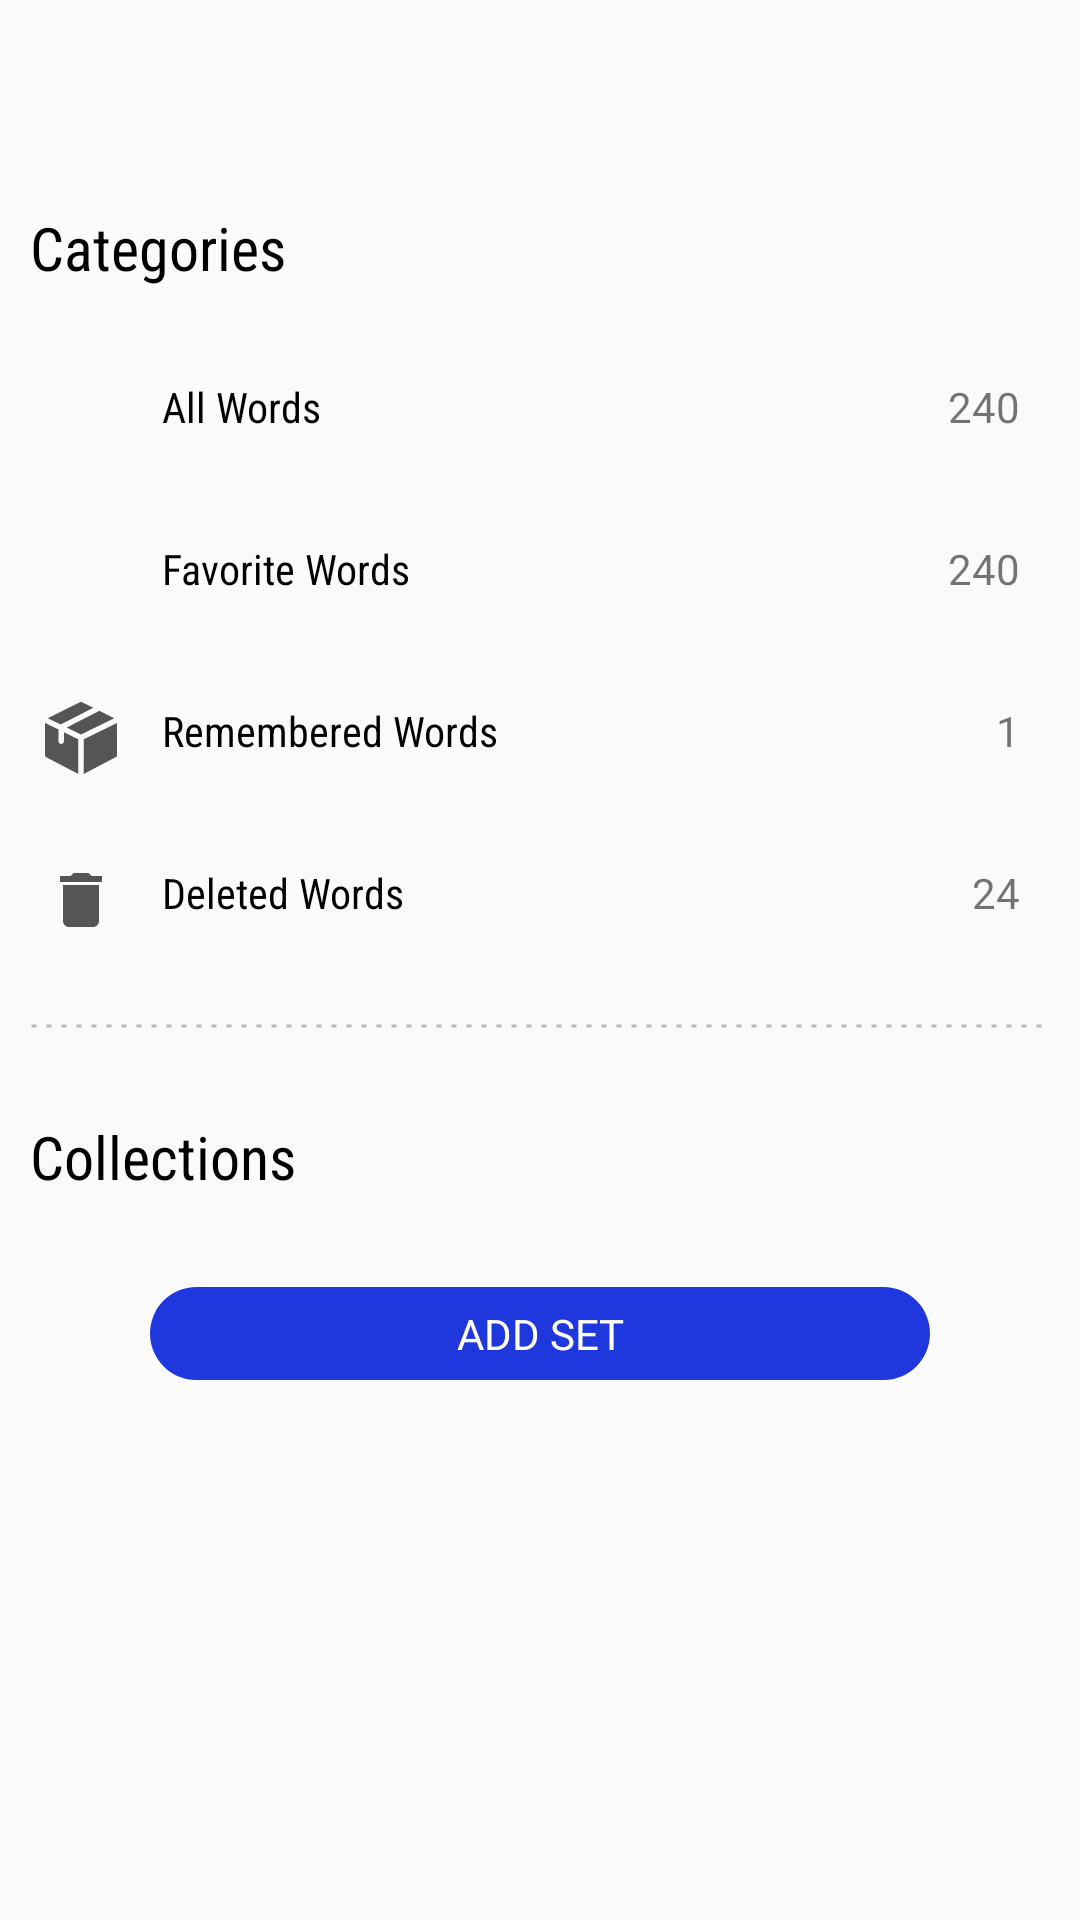

Screen size 1080 × 1920. Icon name, then its center in pixels as point (x, y):
remember box: point (81, 738)
